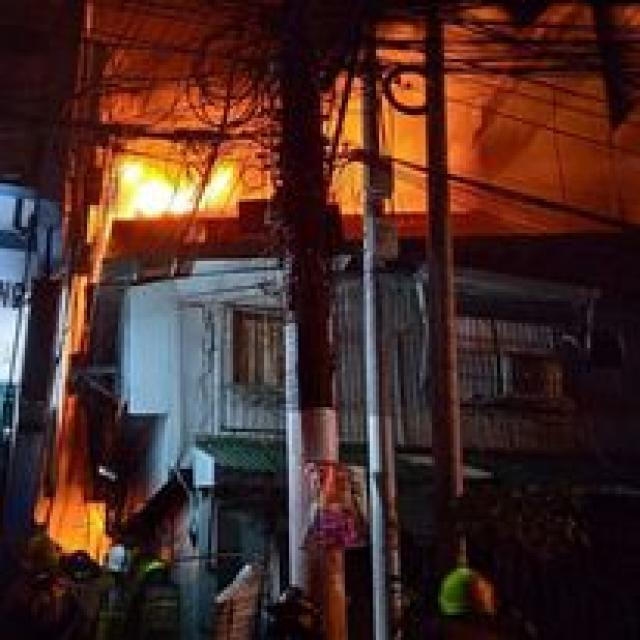Fire: (305, 0, 507, 224), (75, 121, 262, 221), (45, 407, 119, 585)
Smoke: (74, 0, 492, 233)
